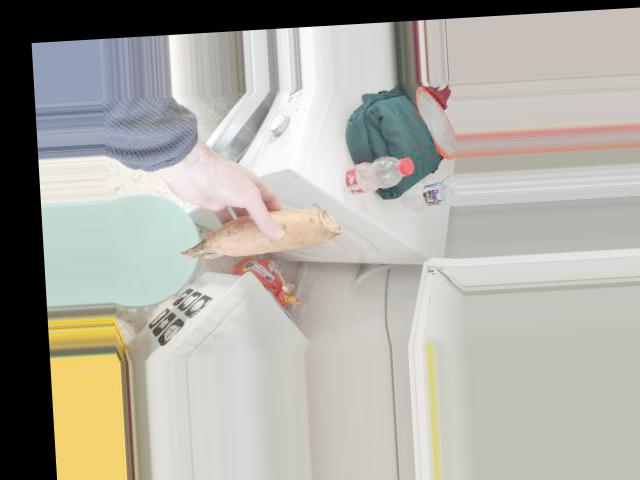sweet_potato: (189, 200, 349, 253)
